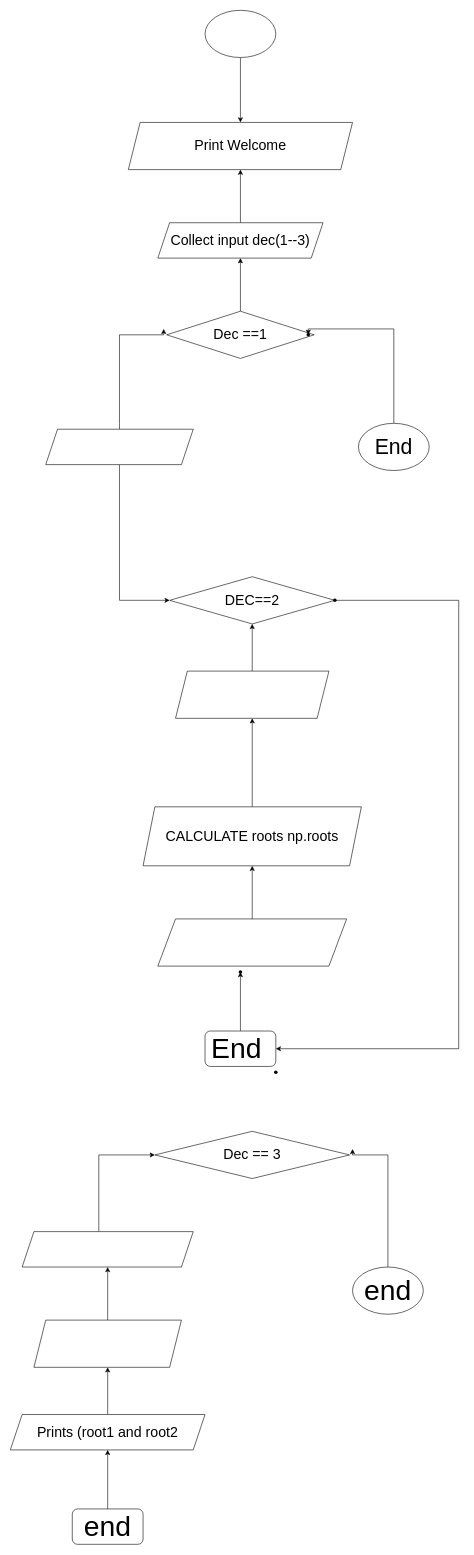
Some shapes in this 474 by 1555 pixel diagram are drawn without their labels. Here are the shapes that lost their labels. From the top down, the centre of each, then its label:
At (240,34): "START".
At (119,447): "Input a,b,c,d".
At (252,694): "INPUT A,B,C,D,E".
At (252,942): "Print roots".
At (107,1249): "Input a,b,c".
At (107,1343): "Calculate Discriminant b**2 - 4ac".
